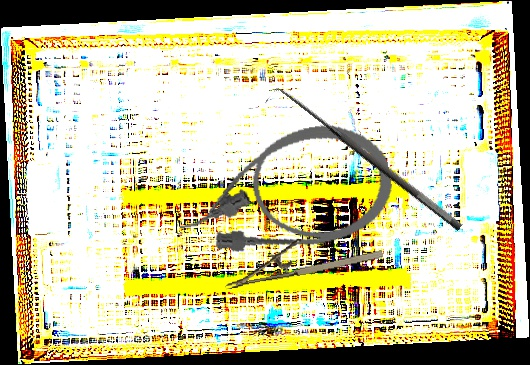Cannula: (166, 115, 400, 267)
Hook Surgical: (263, 79, 466, 246)
Needle Holder: (219, 225, 384, 290)
